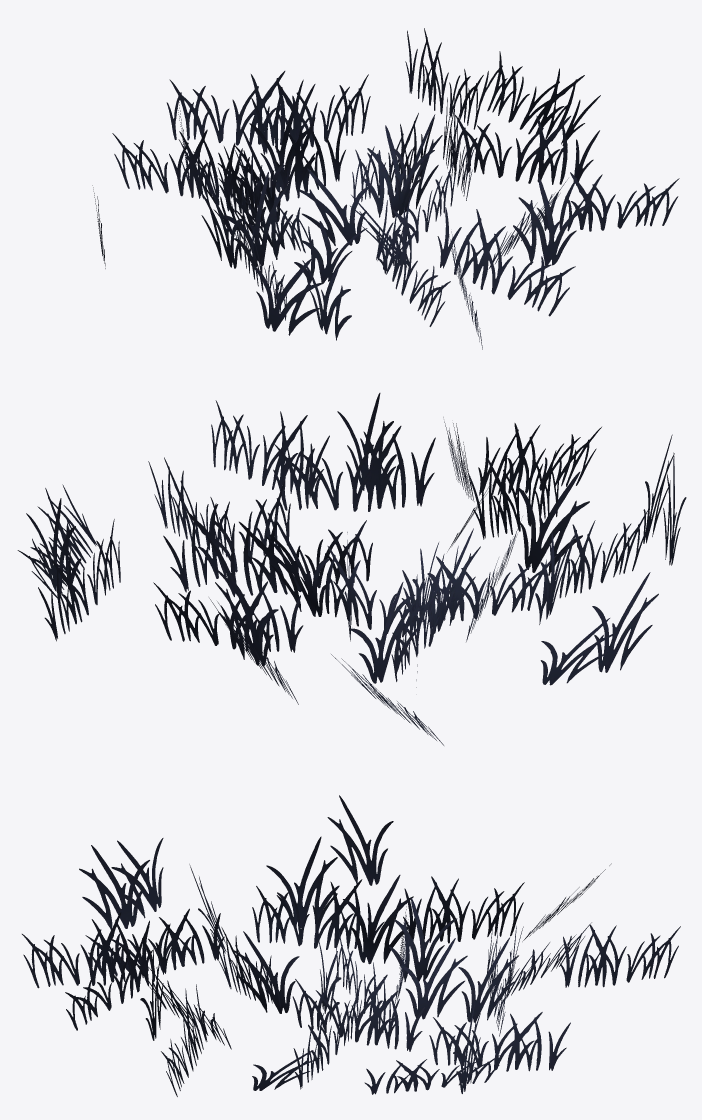
The picture shows the model from 3 angles, top to bottom: view 1: azimuth 30°, elevation 25°; view 2: azimuth 150°, elevation 25°; view 3: azimuth 270°, elevation 25°; orthographic projection. The views are drawn at different scales.
Parts seen in each view (by area): view 1: SM_WT_GrassShort_04_LOD0; view 2: SM_WT_GrassShort_04_LOD0; view 3: SM_WT_GrassShort_04_LOD0.
Boxes of the visible parts, x1,y1,x2,y2 form: SM_WT_GrassShort_04_LOD0: (92,28,679,349); SM_WT_GrassShort_04_LOD0: (17,393,686,745); SM_WT_GrassShort_04_LOD0: (22,795,680,1096).
Bounding box in the file's own units: 1.73 × 0.3618 × 1.97.
Materials: 1 (1 with a texture image).
